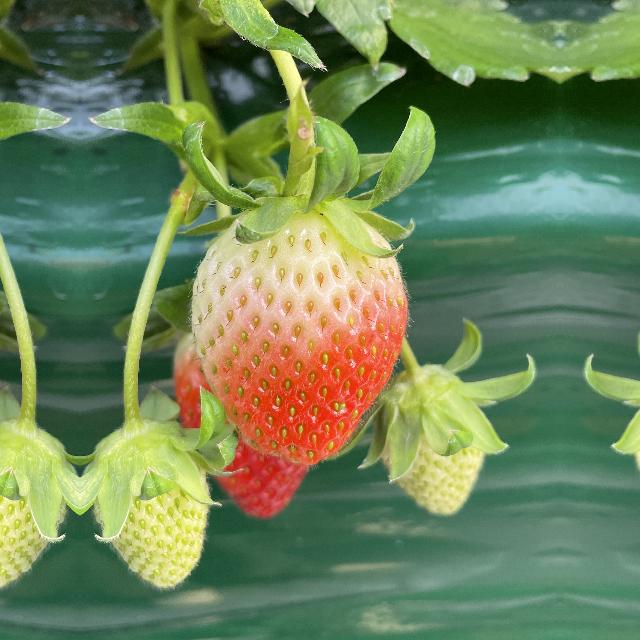Health_25: (90, 422, 218, 596), (380, 377, 488, 518), (0, 422, 69, 595)
Health_75: (192, 192, 404, 464)
